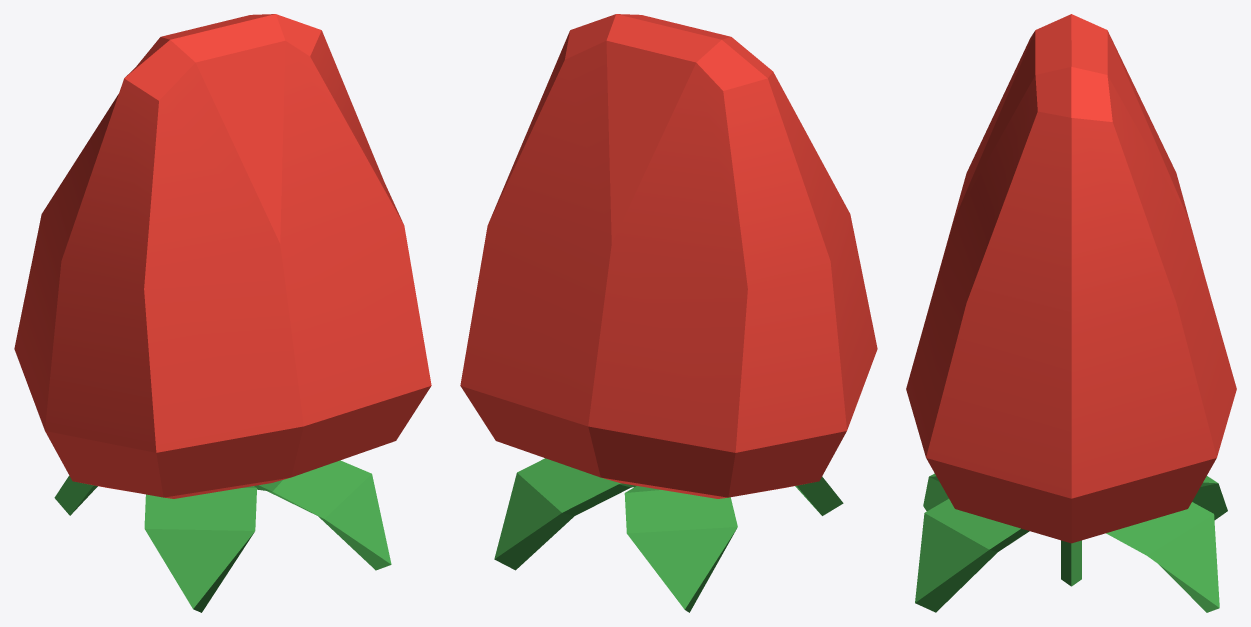
Rendered from strawberry.glb.
3 views of the same model, side by side, from view 1: azimuth 30°, elevation 25°; view 2: azimuth 150°, elevation 25°; view 3: azimuth 270°, elevation 25° (orthographic). The views are drawn at different scales.
Parts seen in each view (by area): view 1: node-0; view 2: node-0; view 3: node-0.
Part boxes in pixels (box(x1,y1,x2,y2)): node-0: box(14, 14, 431, 612); node-0: box(460, 14, 877, 612); node-0: box(906, 14, 1236, 612).
Bounding box in the file's own units: 26.43 × 37.41 × 20.76.
